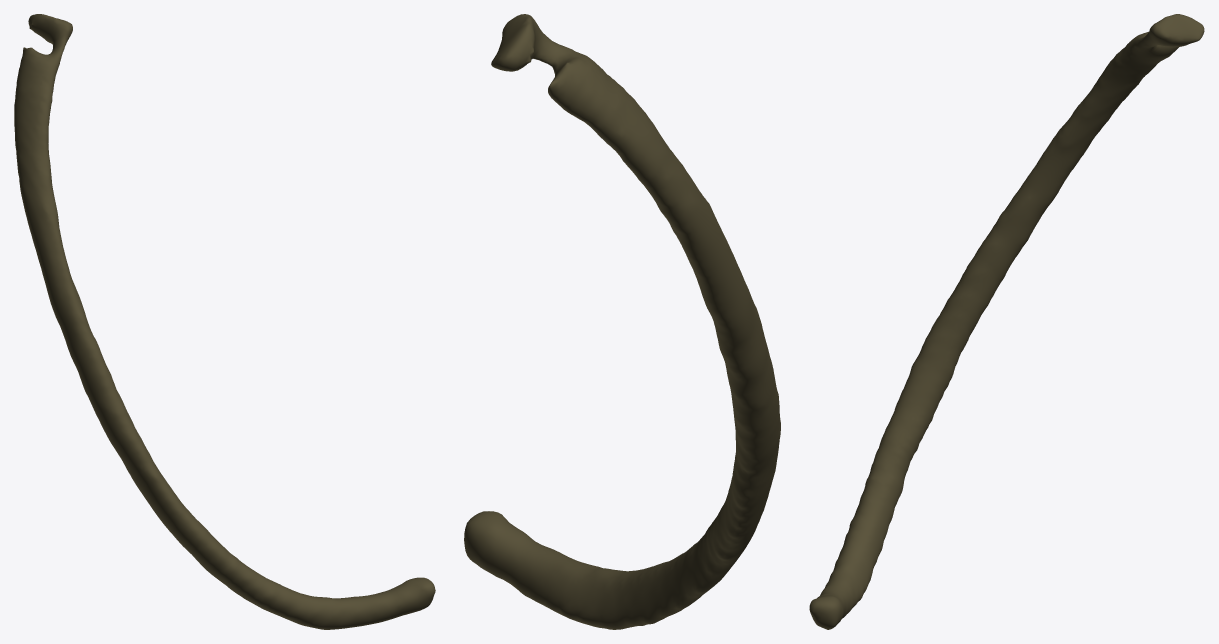
The model's file is segmentations_rib_left_6.obj.
3 renders of one model, left to right at view 1: azimuth 30°, elevation 25°; view 2: azimuth 150°, elevation 25°; view 3: azimuth 270°, elevation 25°, orthographic. The views are drawn at different scales.
Visible parts, largest first — view 1: grp1; view 2: grp1; view 3: grp1.
Boxes of the visible parts, <box> form: grp1: <box>14,14,435,629</box>; grp1: <box>464,14,780,629</box>; grp1: <box>809,14,1204,629</box>.
Bounding box in the file's own units: 63.4 × 114 × 78.18.
